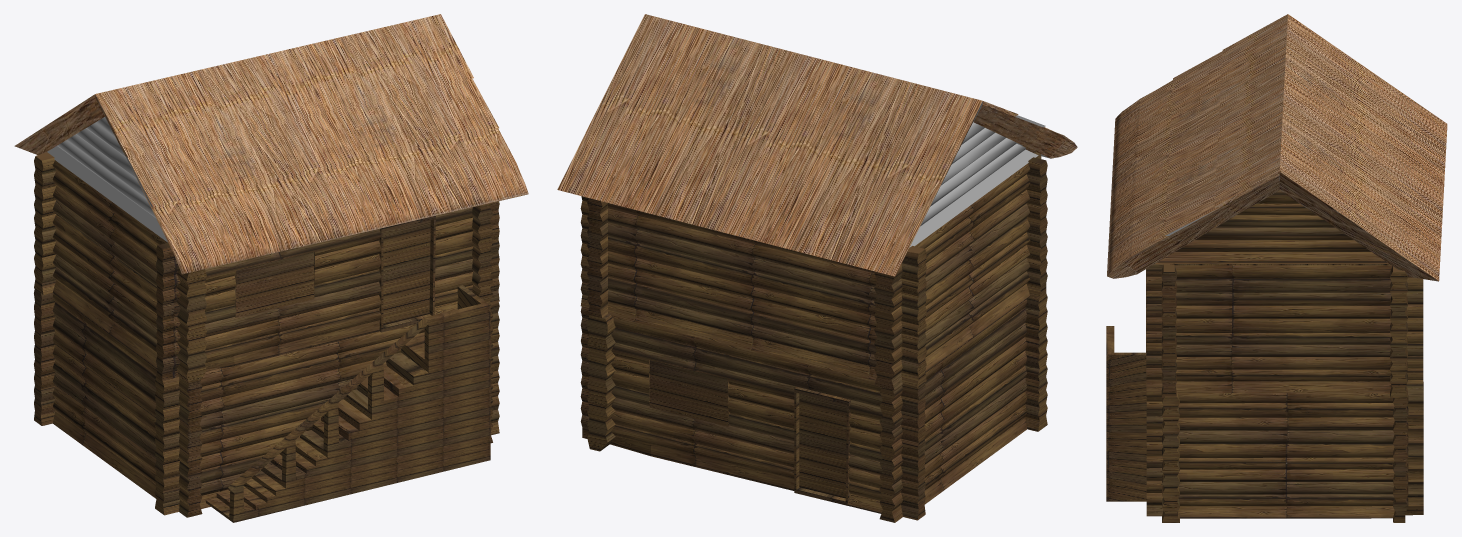
Rendered from Shack3tall.fbx.
3 renders of one model, left to right at view 1: azimuth 30°, elevation 25°; view 2: azimuth 150°, elevation 25°; view 3: azimuth 270°, elevation 25°, orthographic. The views are drawn at different scales.
Visible parts, largest first — view 1: pCube52; view 2: pCube52; view 3: pCube52.
Boxes of the visible parts, x1=… form: pCube52: x1=14, y1=14, x2=528, y2=522; pCube52: x1=557, y1=14, x2=1077, y2=522; pCube52: x1=1106, y1=14, x2=1447, y2=522.
Bounding box in the file's own units: 872 × 893 × 781.
